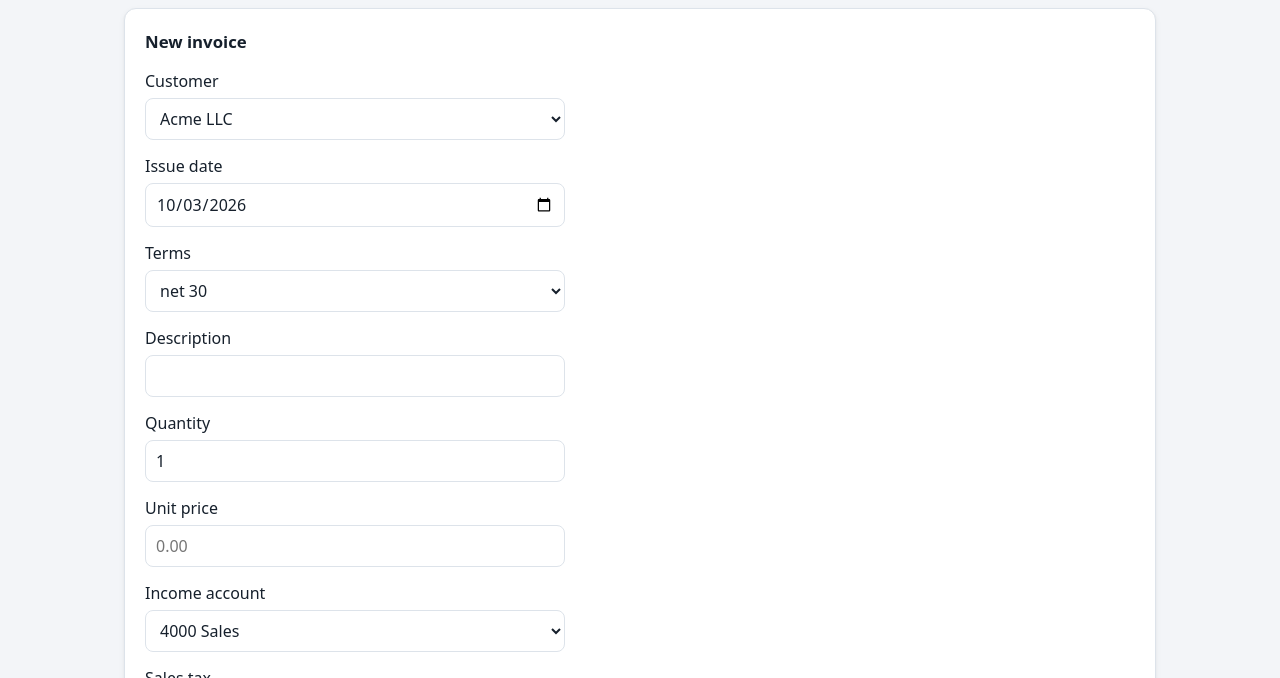
spec 017 AC 1-3: sales › creates a draft invoice, finalizes it and records a payment
(page scrolled)
Type "Website build" into the field labelled "Description" at [355, 376], box [145,355,565,397]
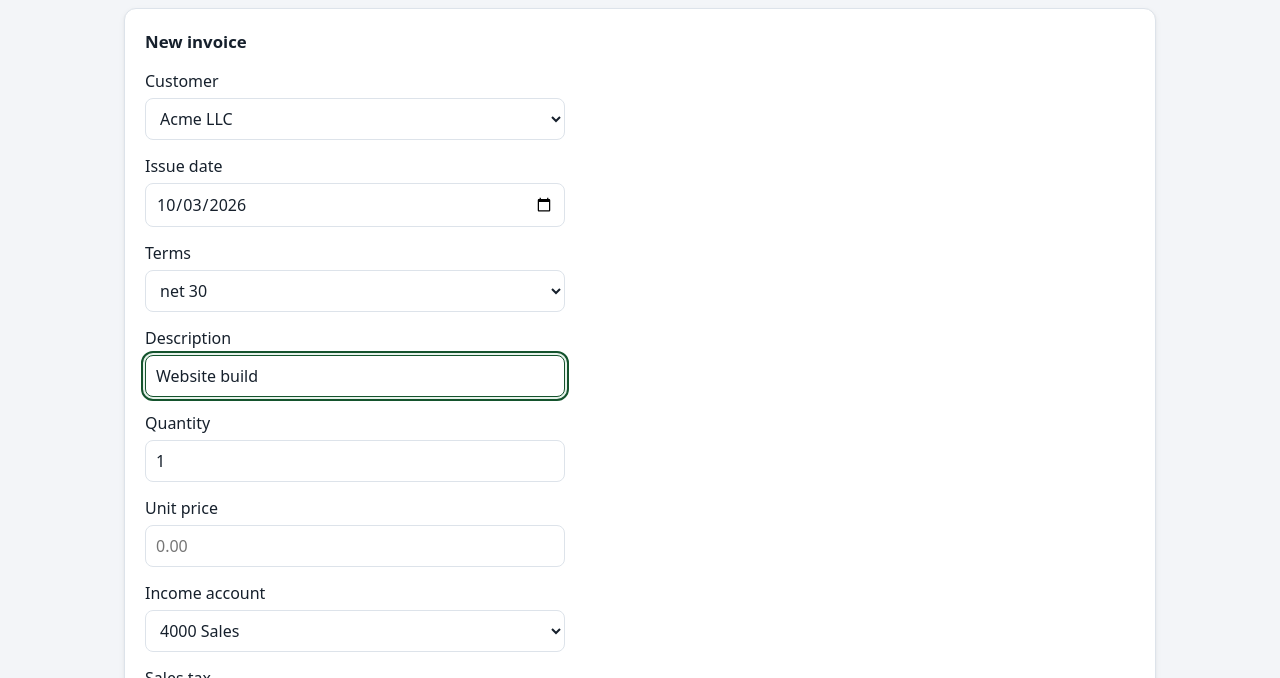
Type "1500.00" into the field labelled "Unit price" at [355, 546], box [145,525,565,567]
(page scrolled)
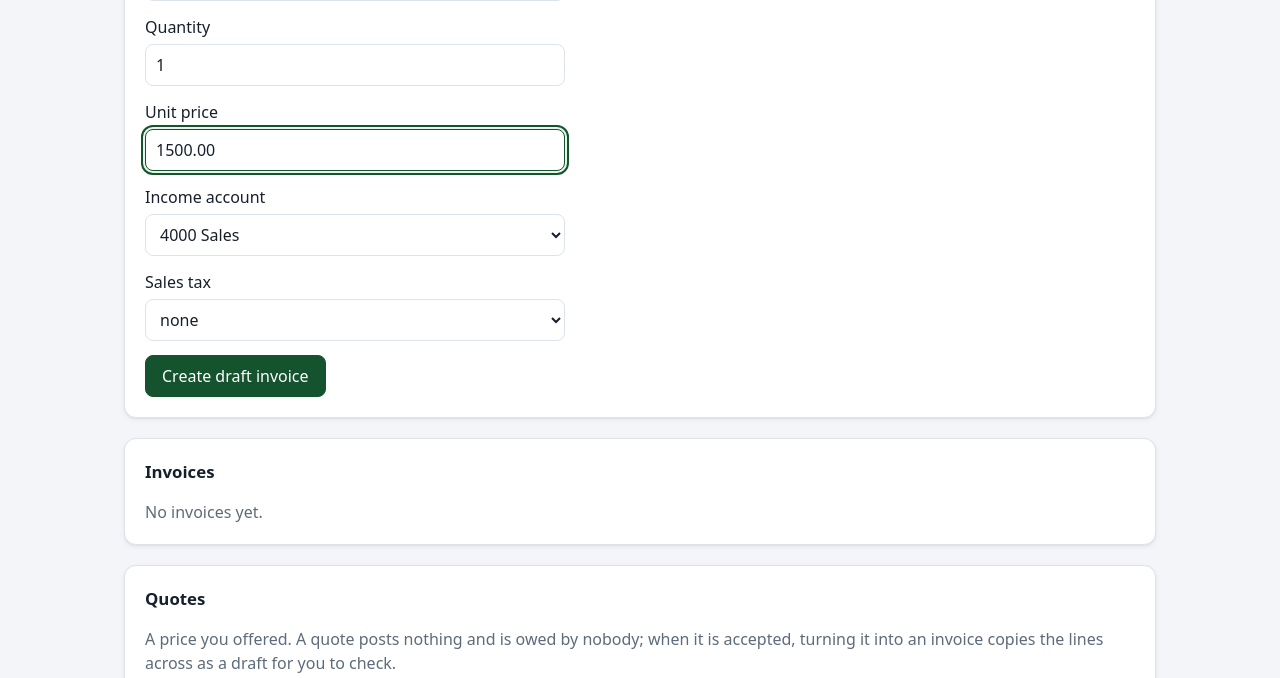
Click the button "Create draft invoice" at [235, 376], box [145,355,326,397]
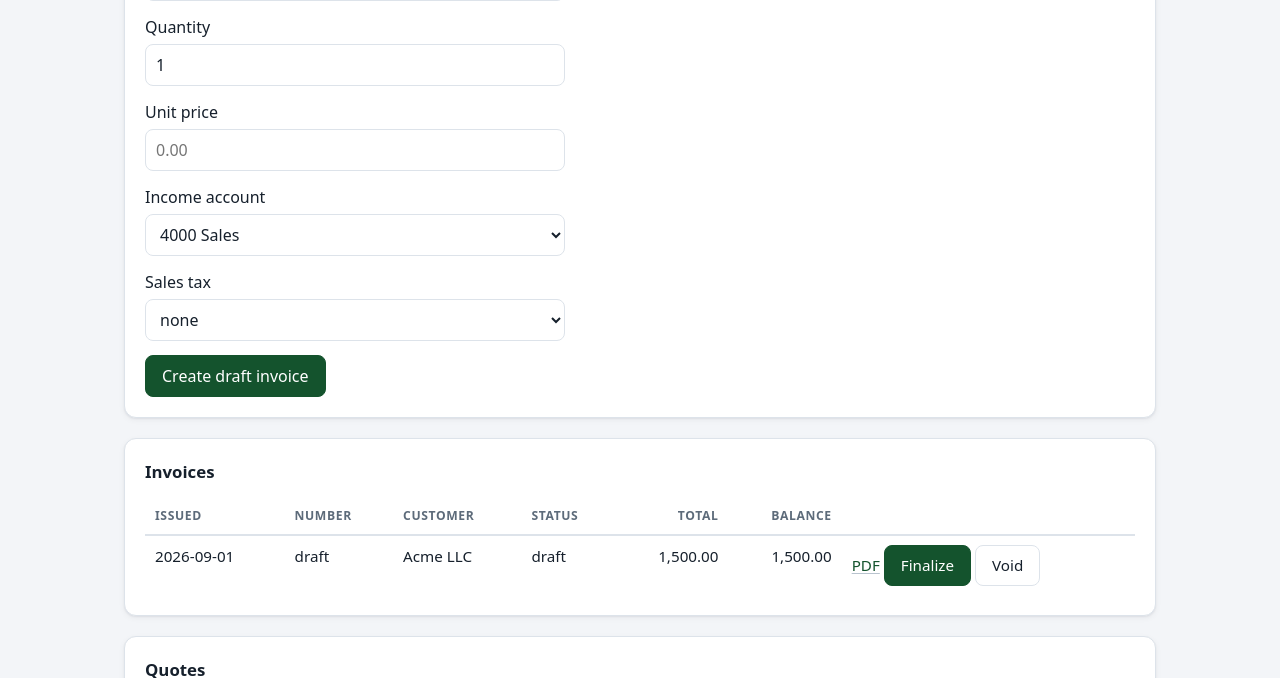
Expected: the button "Finalize" is shown
Click the button "Finalize" at [927, 565], box [884,545,971,586]
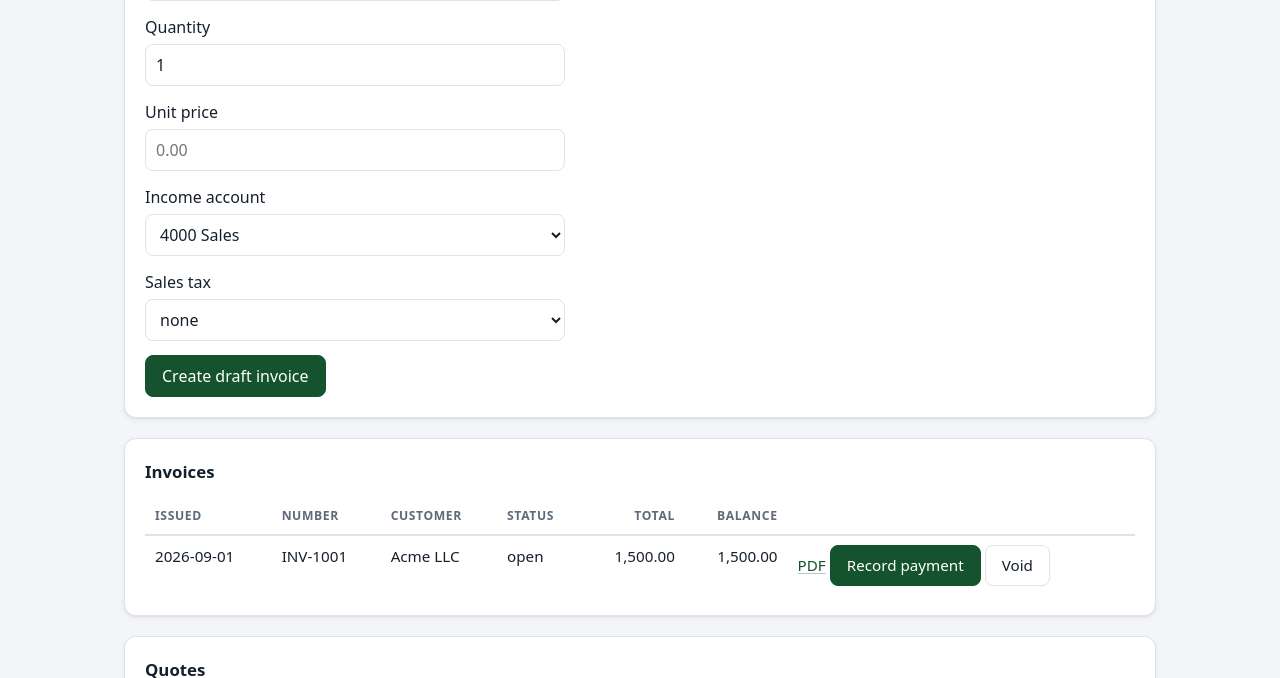
Expected: the text "INV-1001" is shown, [272,535,381,595]
Expected: the cell "open" is shown, [497,535,582,595]
Click the button "Record payment" at [905, 565], box [830,545,981,586]
(page scrolled)
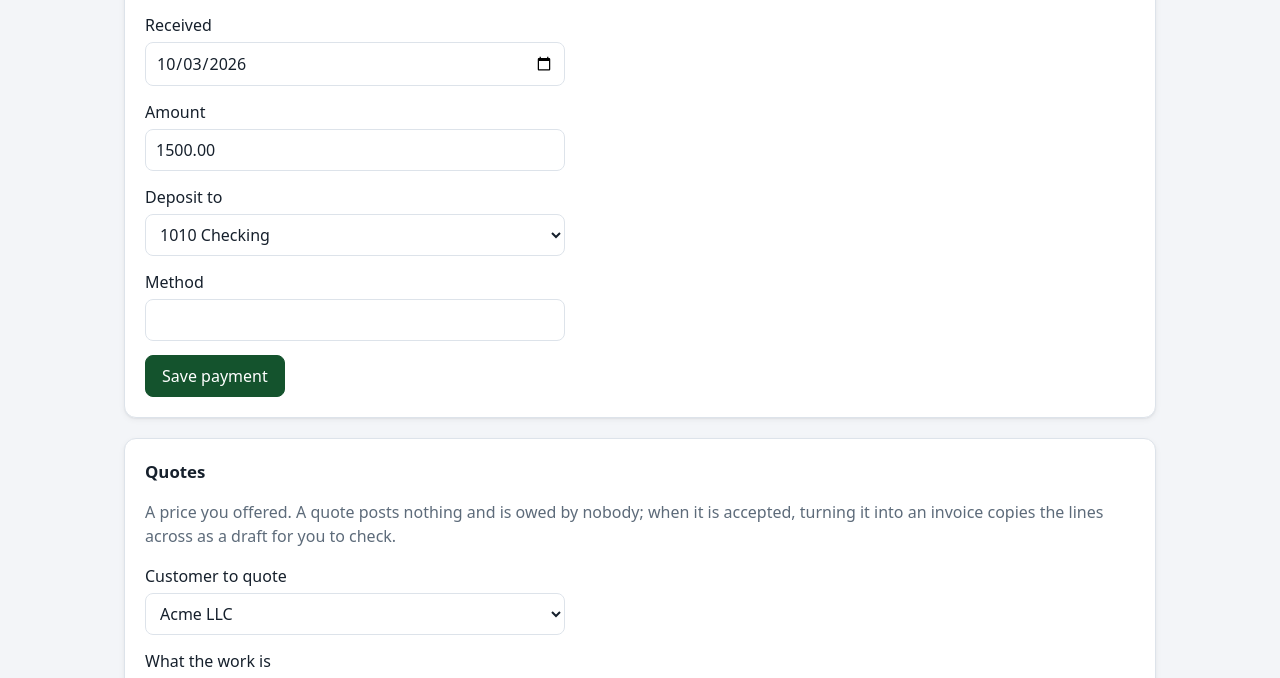
Expected: the field labelled "Amount" holds "1500.00", [145,129,565,171]
Click the button "Save payment" at [215, 376], box [145,355,285,397]
(page scrolled)
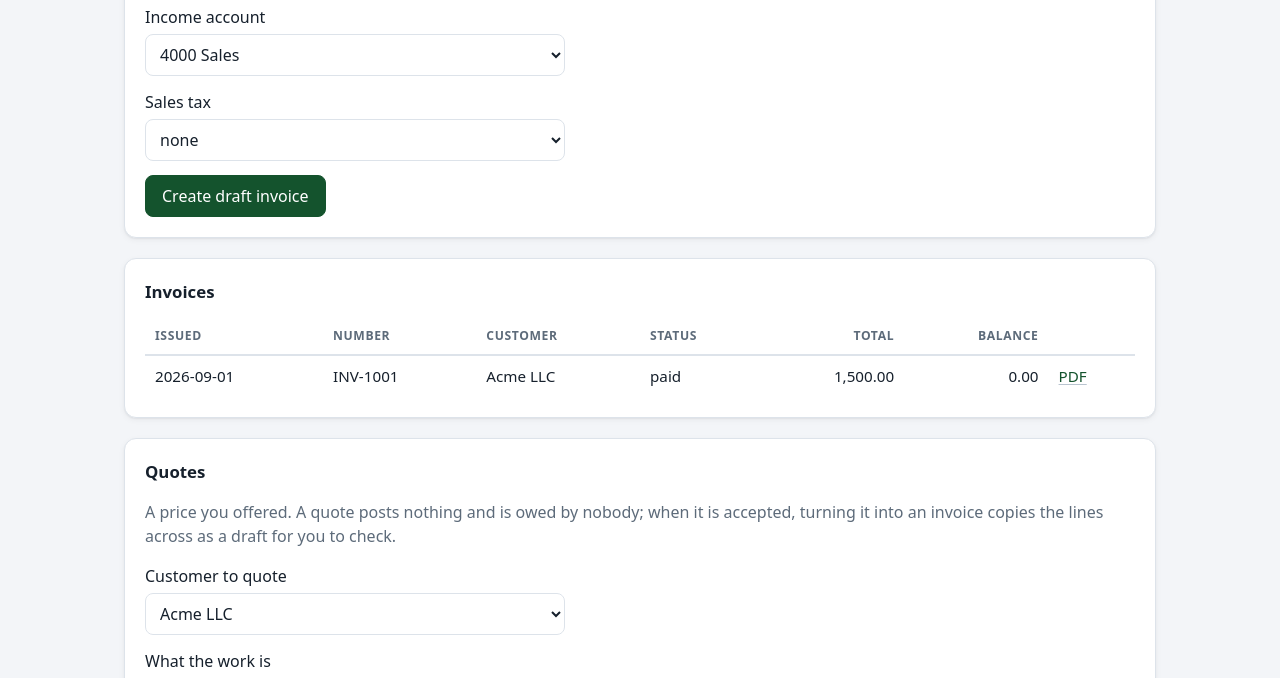
Expected: the text "paid" is shown, [640,355,760,397]
